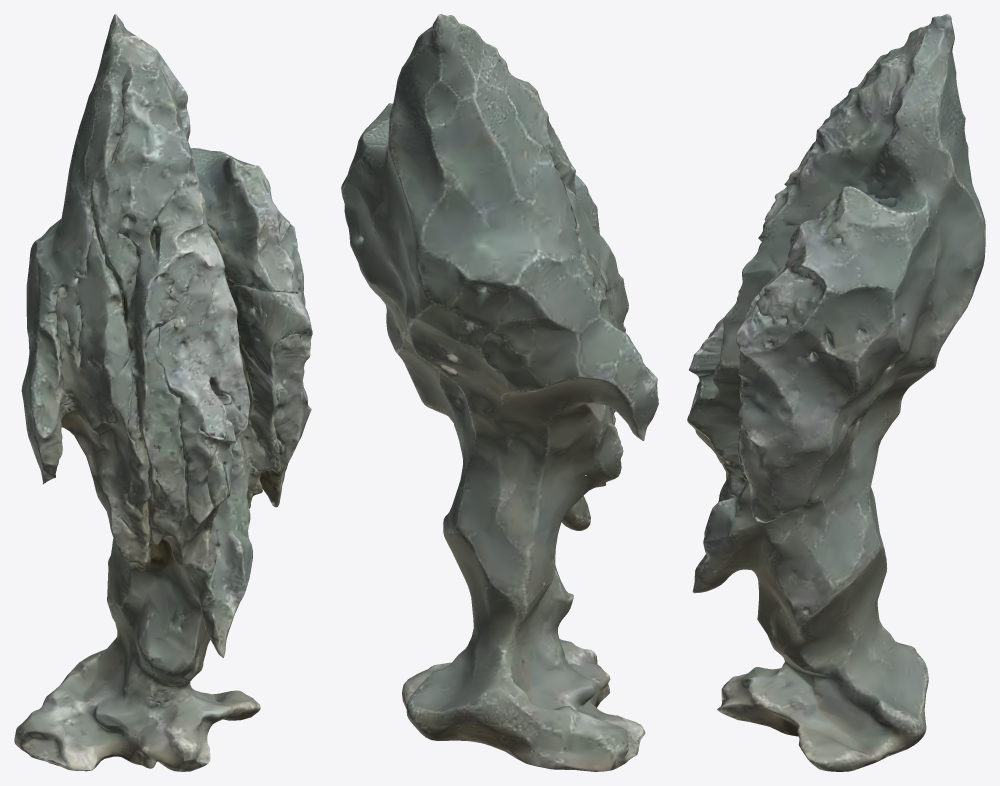
Rendered from JiaShanShi_9.glb.
3 renders of one model, left to right at view 1: azimuth 30°, elevation 25°; view 2: azimuth 150°, elevation 25°; view 3: azimuth 270°, elevation 25°, orthographic. The views are drawn at different scales.
Parts seen in each view (by area): view 1: tripo_node_e0165b0e-3fe0-489e-95fd-f6fc510d345d; view 2: tripo_node_e0165b0e-3fe0-489e-95fd-f6fc510d345d; view 3: tripo_node_e0165b0e-3fe0-489e-95fd-f6fc510d345d.
Part boxes in pixels (x1,y1,x2,y2): tripo_node_e0165b0e-3fe0-489e-95fd-f6fc510d345d: (14, 14, 312, 771); tripo_node_e0165b0e-3fe0-489e-95fd-f6fc510d345d: (341, 14, 658, 771); tripo_node_e0165b0e-3fe0-489e-95fd-f6fc510d345d: (687, 14, 985, 771).
Size of the model in its own units: 0.3964 by 0.9827 by 0.3705.
1 material, 1 textured.
